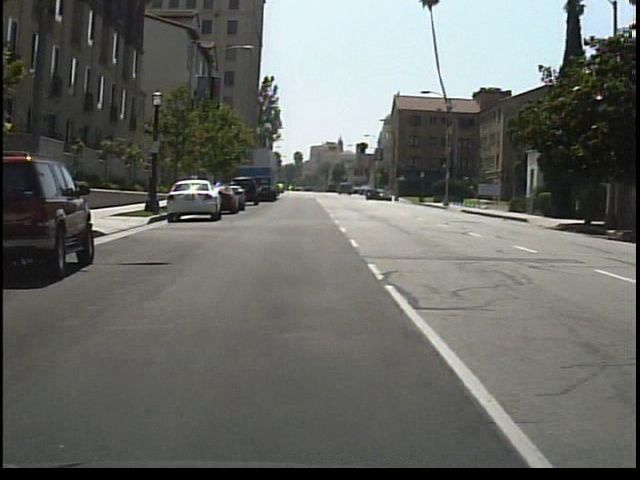person: (141, 167, 160, 213)
